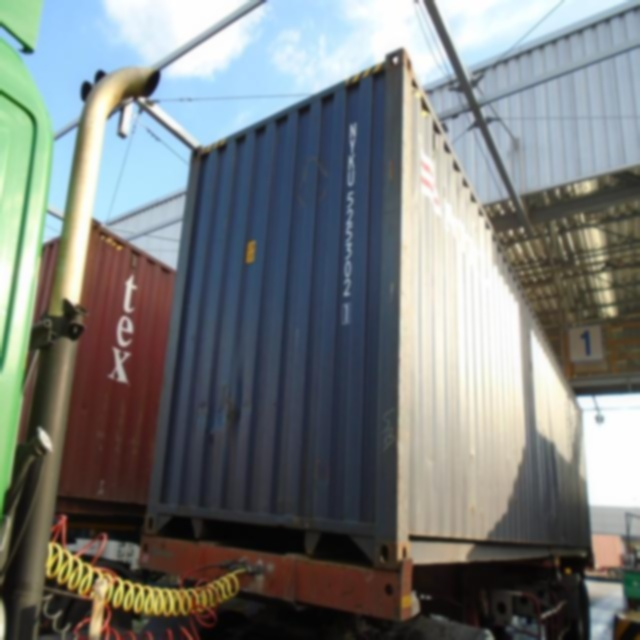Dent: (194, 369, 248, 451), (539, 418, 562, 531)
